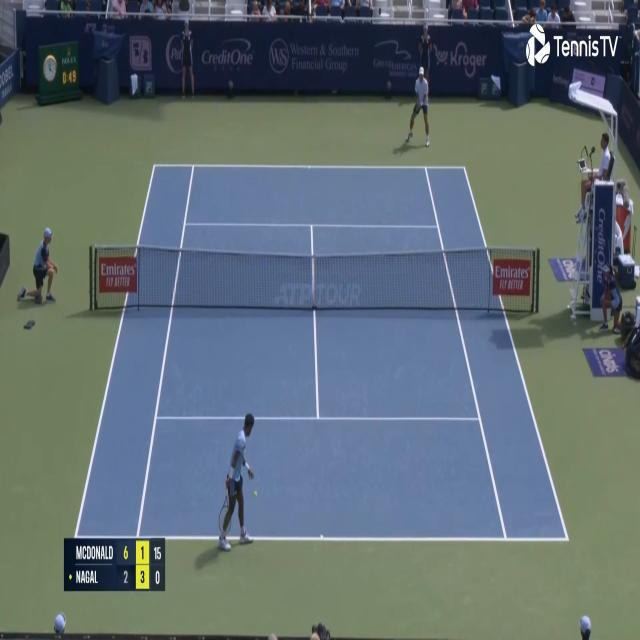tennis-player: (215, 407, 257, 557), (404, 64, 433, 149)
